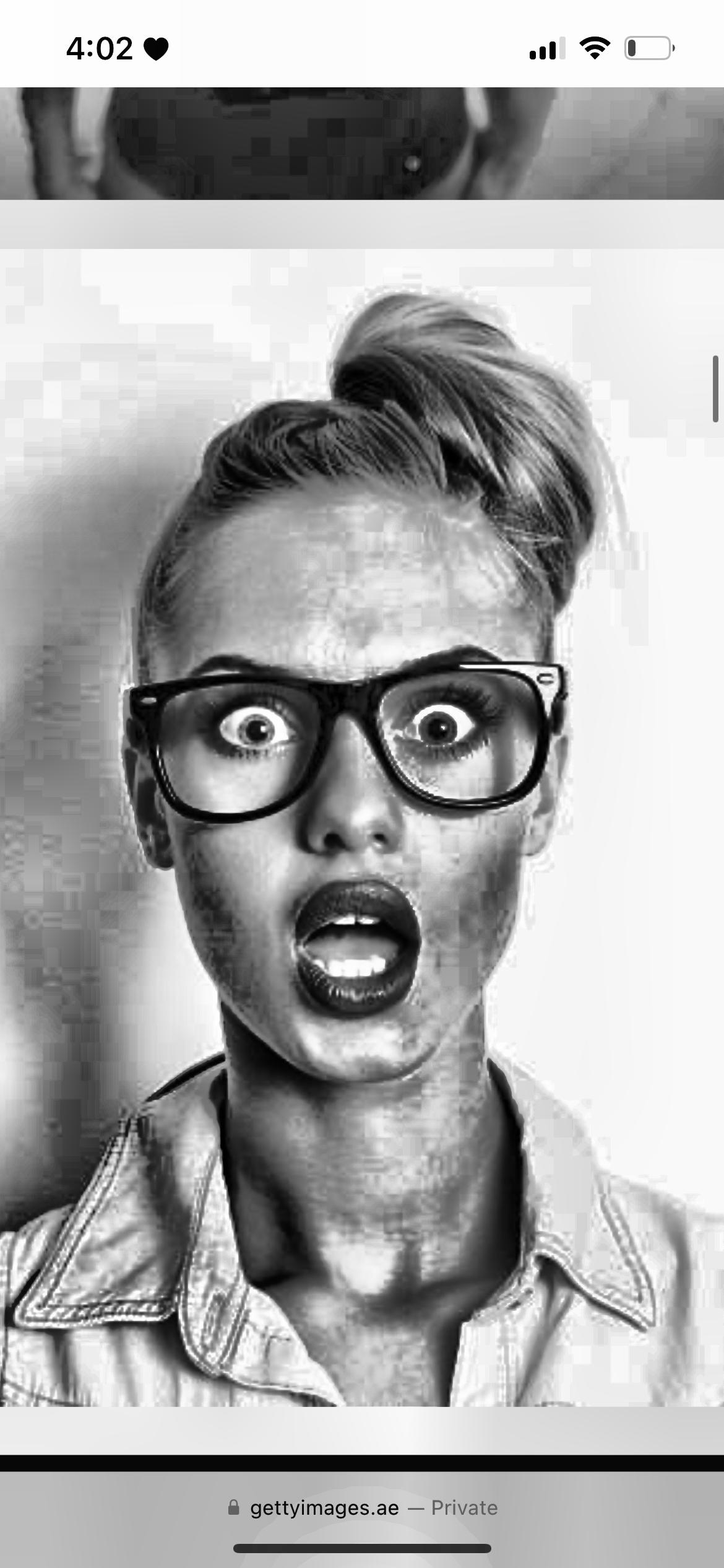surprised: (164, 520, 548, 1083)
